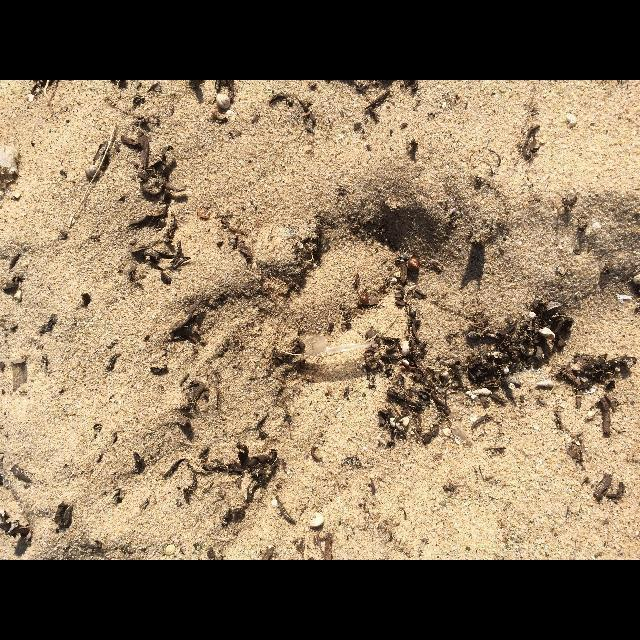Plastic: (296, 334, 374, 362)
